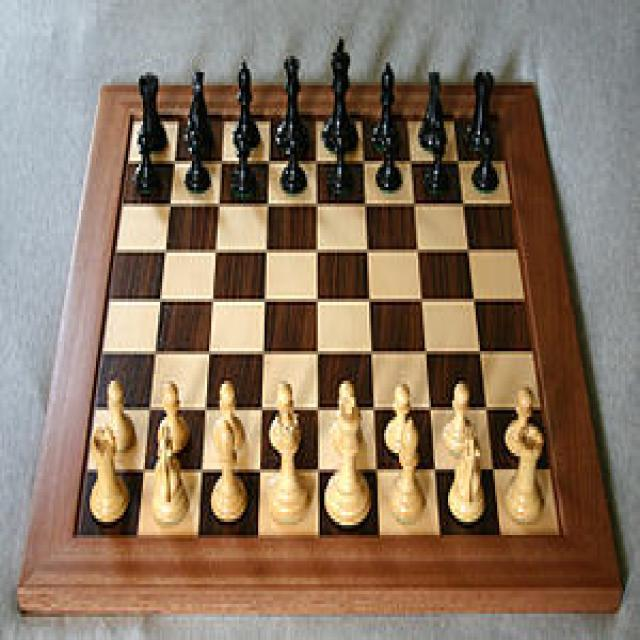chess-table-corners: (57, 514, 91, 558), (544, 514, 580, 554), (118, 102, 142, 133)
